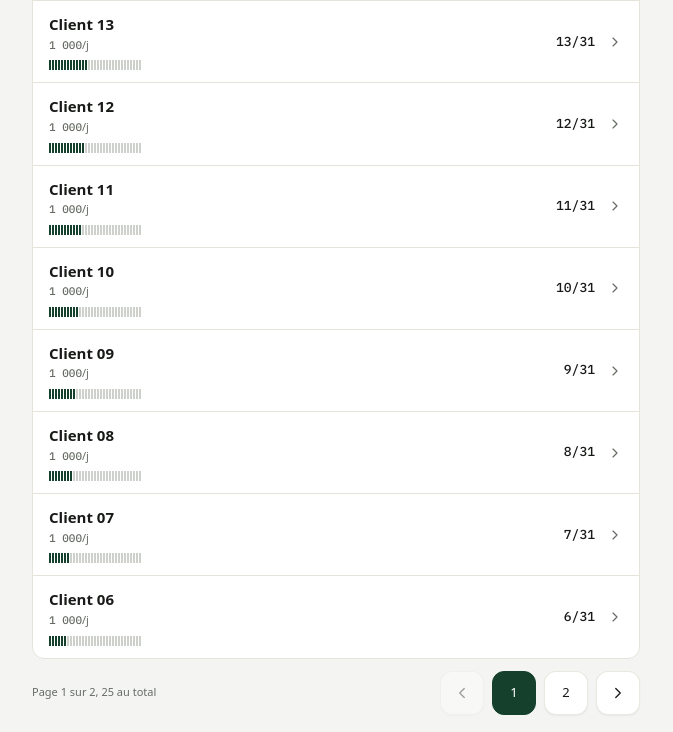
Test: temps 1, choisir la carte › découpe la liste comme celle des clients : une page pleine, puis le reste
(page scrolled)
Click the button named "Page 2": (566, 693) [544,671,588,715]
(page scrolled)
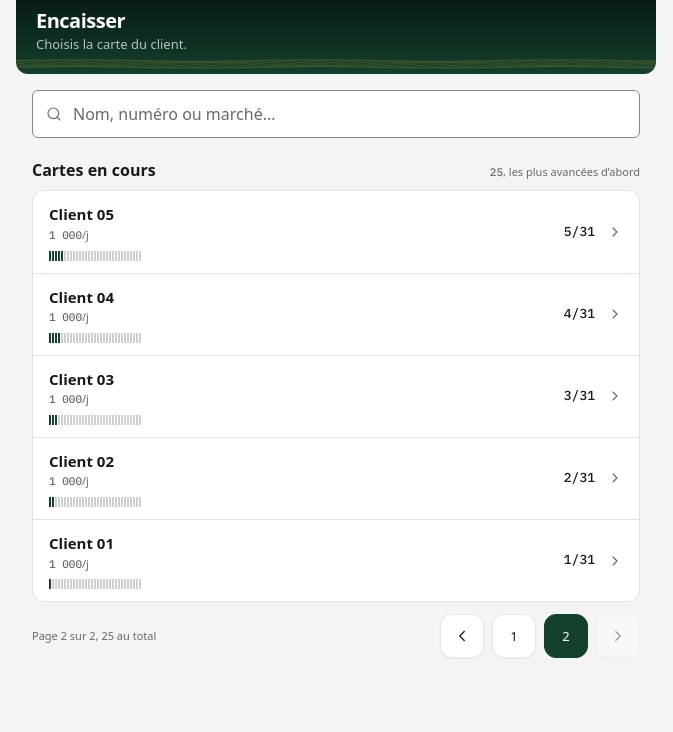
Result: the button "Client 05 1 000/j 5/31" is shown at [33,191,639,273]
